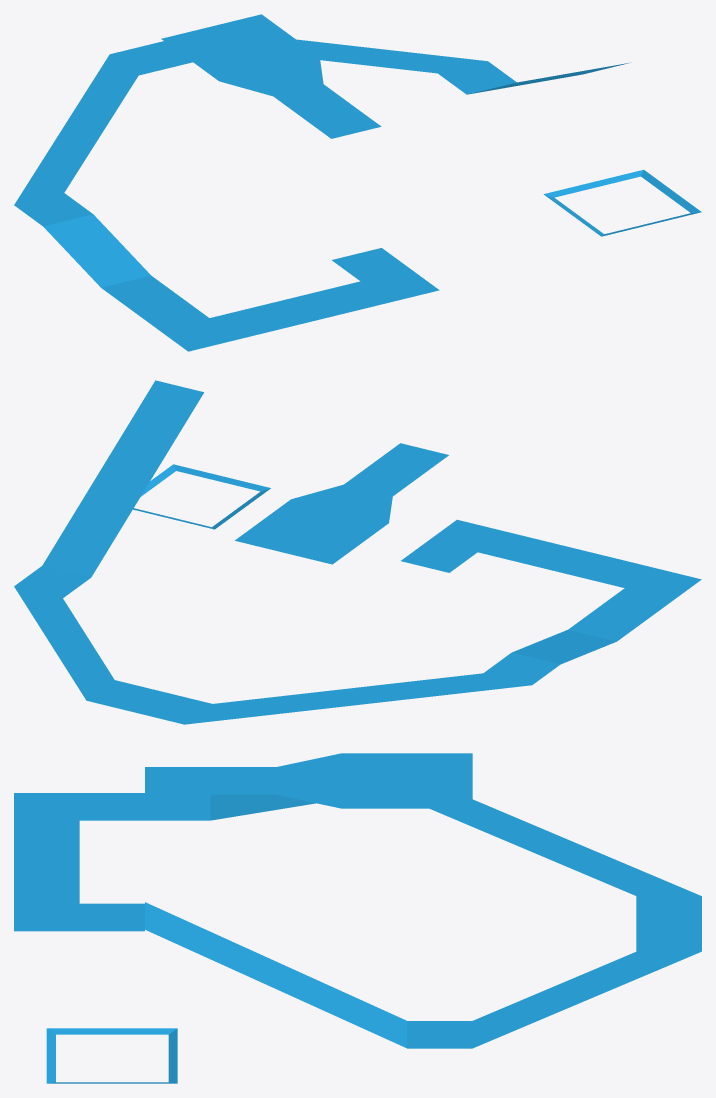
File: model_map_11.fbx
3 renders of one model, top to bottom at view 1: azimuth 30°, elevation 25°; view 2: azimuth 150°, elevation 25°; view 3: azimuth 270°, elevation 25°, orthographic. The views are drawn at different scales.
Visible parts, largest first — view 1: col; view 2: col; view 3: col.
Part boxes in pixels (<box>): col: <box>14,14,701,351</box>; col: <box>14,380,701,724</box>; col: <box>14,753,701,1083</box>.
Bounding box in the file's own units: 1050 × 240 × 1050.
